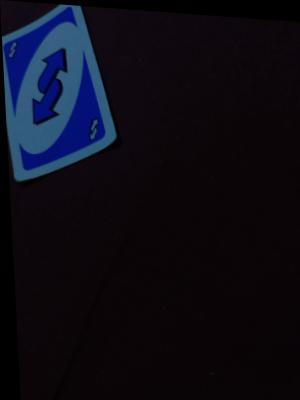blue: (8, 37, 99, 143)
